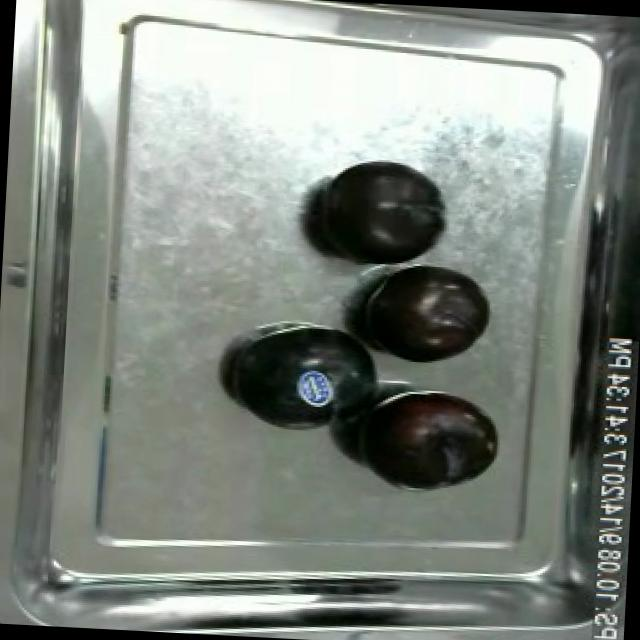Fruit: (222, 315, 396, 438), (350, 380, 506, 500), (303, 152, 455, 274), (352, 258, 500, 371)
